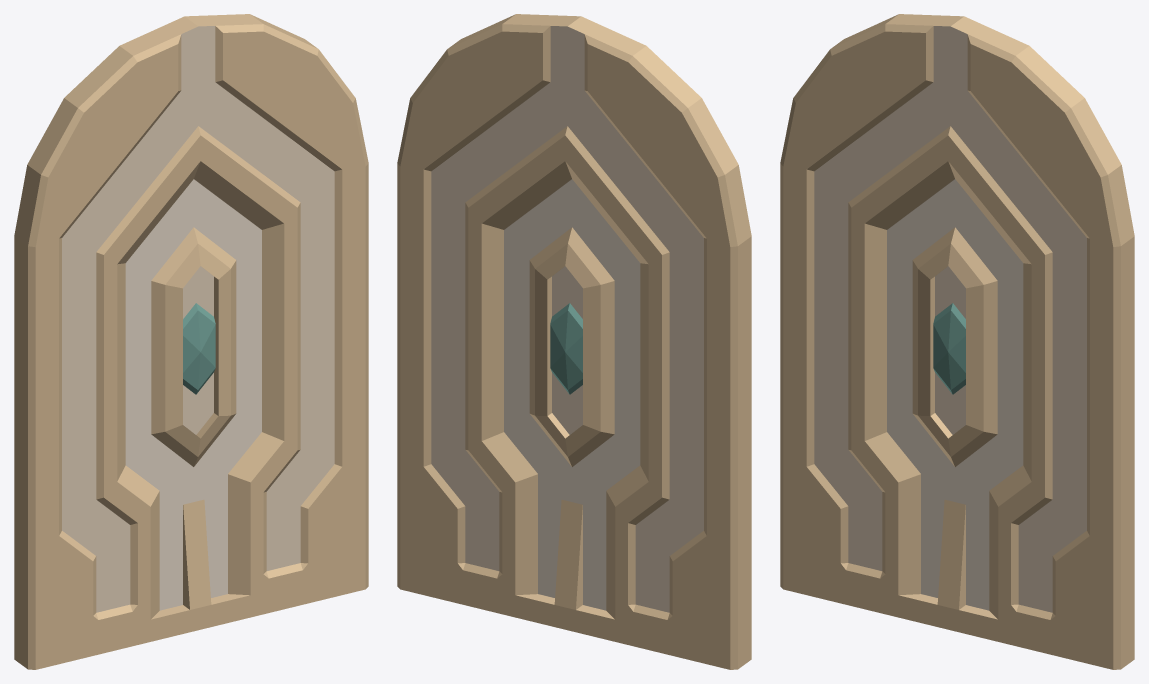
File: temple_Wall_Straight_Door_Large.glb
3 views of the same model, side by side, from view 1: azimuth 30°, elevation 25°; view 2: azimuth 150°, elevation 25°; view 3: azimuth 330°, elevation 25° (orthographic).
Visible parts, largest first — view 1: object1; view 2: object1; view 3: object1.
Part boxes in pixels (x1,y1,x2,y2): object1: (14,14,368,669); object1: (397,14,751,669); object1: (780,14,1134,669).
Size of the model in its own units: 1.6 by 2.7 by 0.15.
